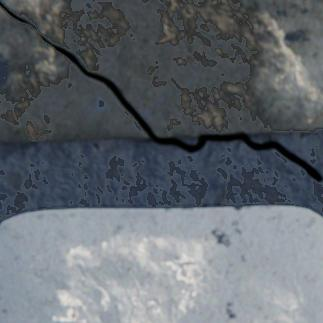brick: (0, 206, 322, 322)
broken_brick: (2, 0, 322, 138), (0, 8, 148, 142)
crack: (0, 0, 322, 181)
